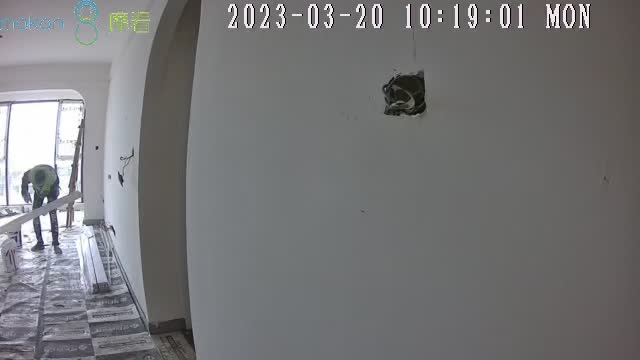people: (21, 165, 59, 253)
window: (1, 98, 83, 209)
